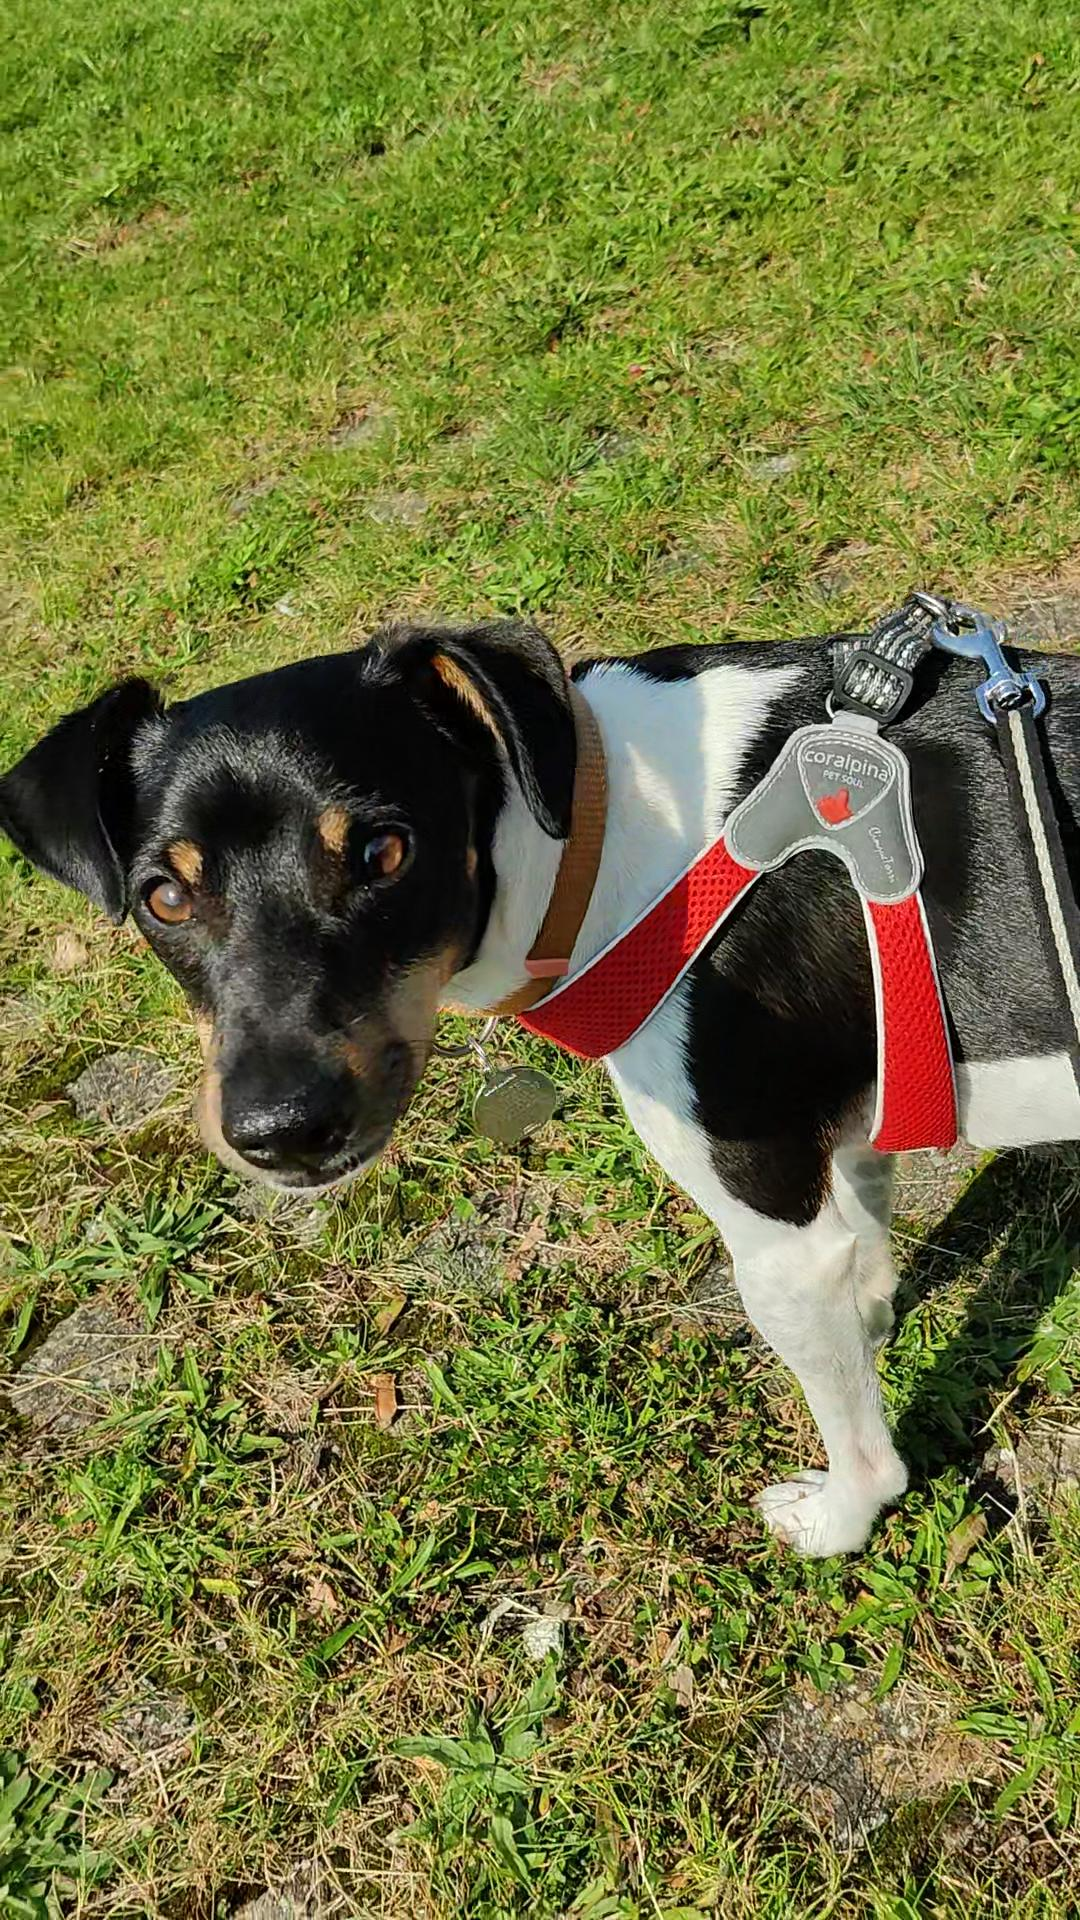Dog: (0, 570, 1079, 1559)
